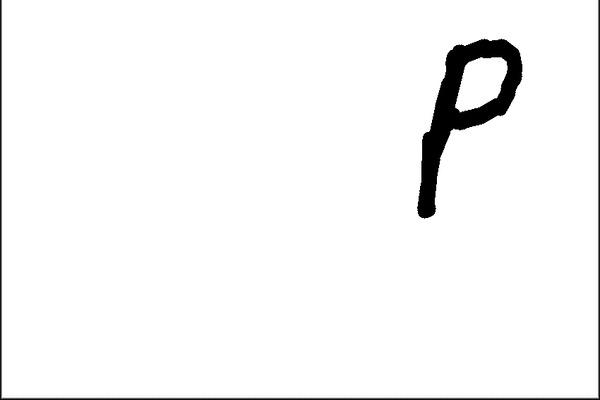P: (410, 28, 519, 240)
